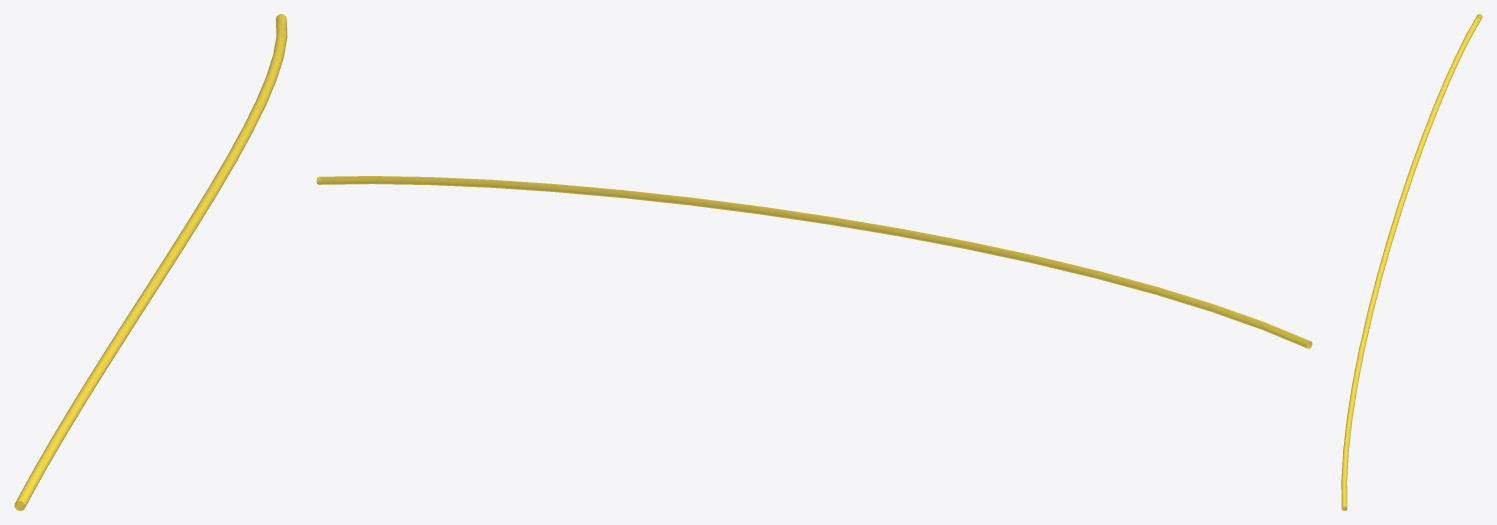
The model's file is Event_27938768_track_31.fbx.
3 renders of one model, left to right at view 1: azimuth 90°, elevation 25°; view 2: azimuth 150°, elevation 25°; view 3: azimuth 270°, elevation 25°, orthographic. The views are drawn at different scales.
Parts seen in each view (by area): view 1: Model; view 2: Model; view 3: Model.
Boxes of the visible parts, x1=… form: Model: x1=14, y1=14, x2=287, y2=510; Model: x1=316, y1=176, x2=1312, y2=348; Model: x1=1341, y1=14, x2=1482, y2=510.
Bounding box in the file's own units: 6.17 × 0.9713 × 0.9878.
